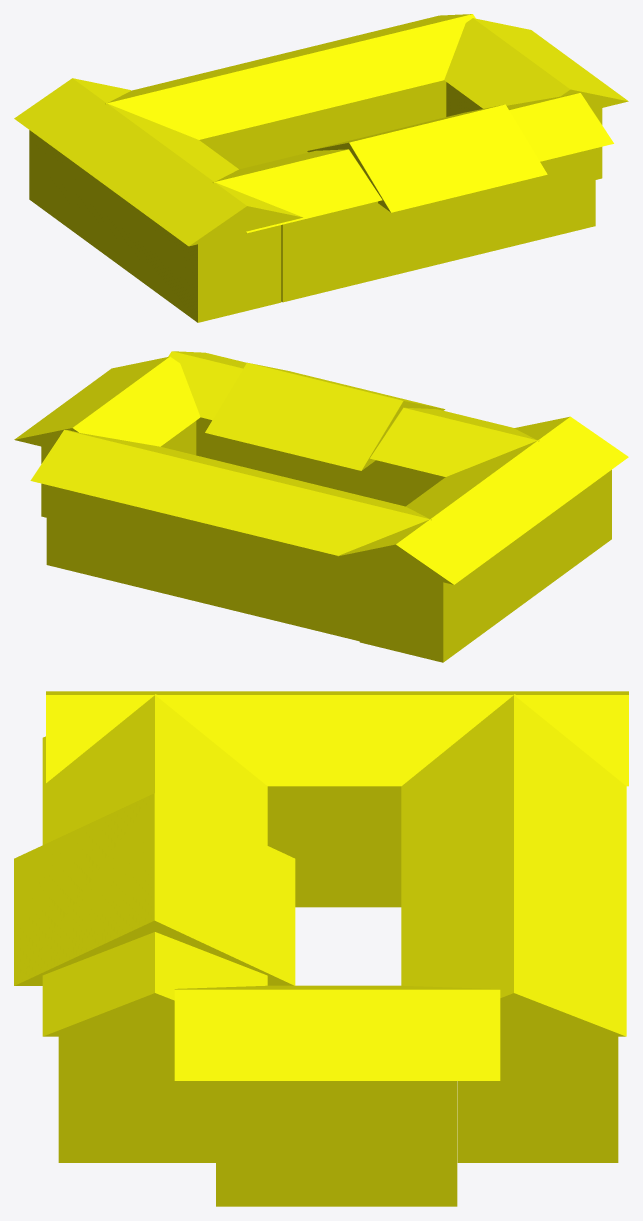
Rendered from WomenDorm.glb.
3 views of the same model, one above another, from view 1: azimuth 30°, elevation 25°; view 2: azimuth 150°, elevation 25°; view 3: azimuth 270°, elevation 25° (orthographic). The views are drawn at different scales.
Visible parts, largest first — view 1: Cube.008; view 2: Cube.008; view 3: Cube.008.
Part boxes in pixels (left/top/right/bottom): Cube.008: left=14, top=14, right=628, bottom=322; Cube.008: left=14, top=351, right=628, bottom=662; Cube.008: left=14, top=691, right=628, bottom=1206.
Size of the model in its own units: 22.94 by 5.29 by 15.3.
